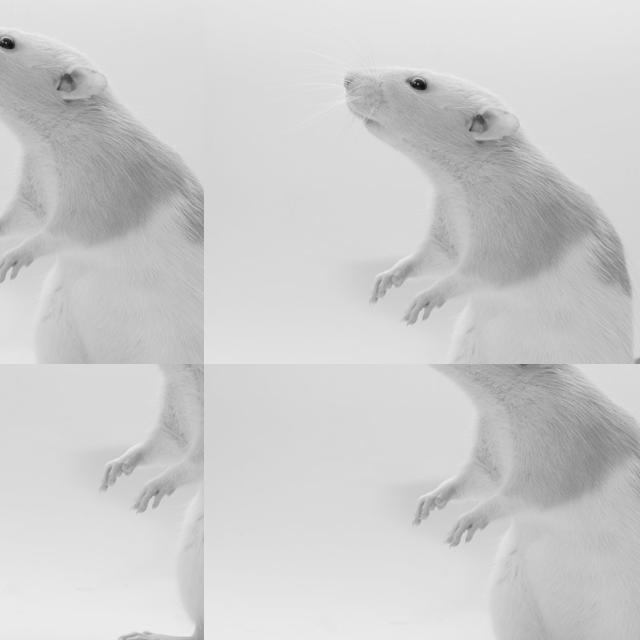rat: (384, 364, 640, 640), (504, 131, 640, 240), (162, 177, 204, 364), (168, 71, 204, 165)
